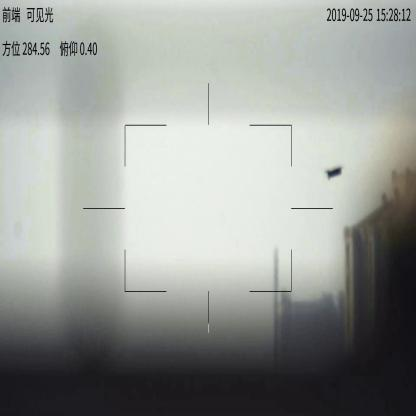uav: (327, 163, 342, 179)
